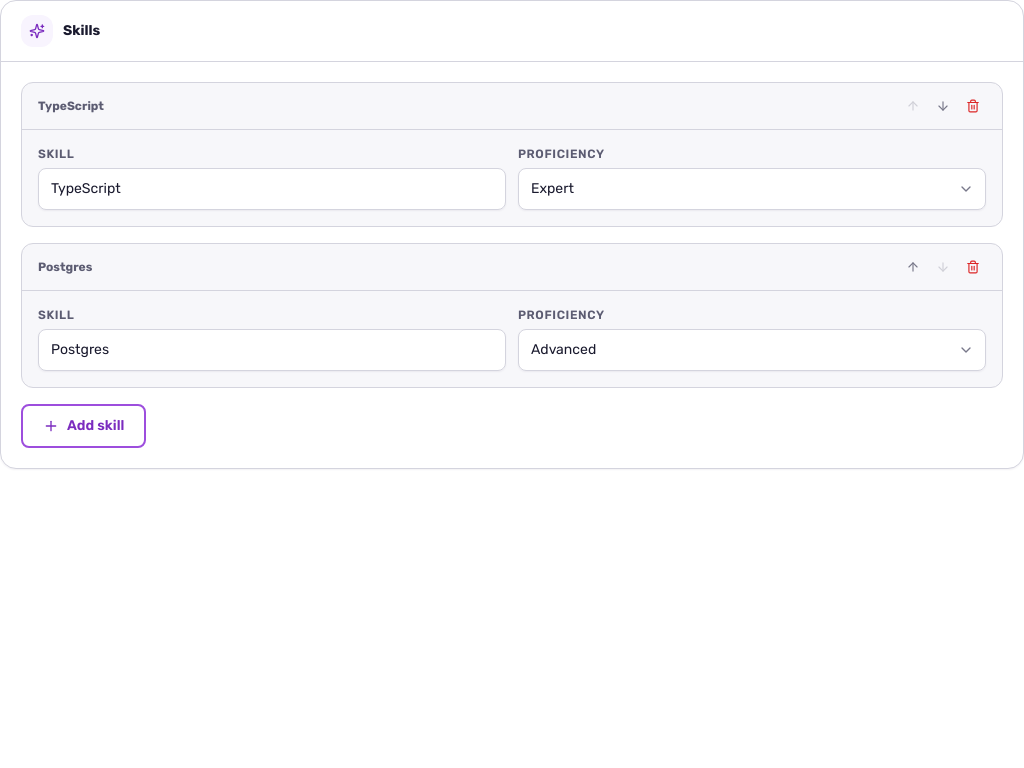
Scenario: SkillsEditor › adds a row
Click the button "Add skill".
click(84, 426)  # box [21, 404, 146, 448]
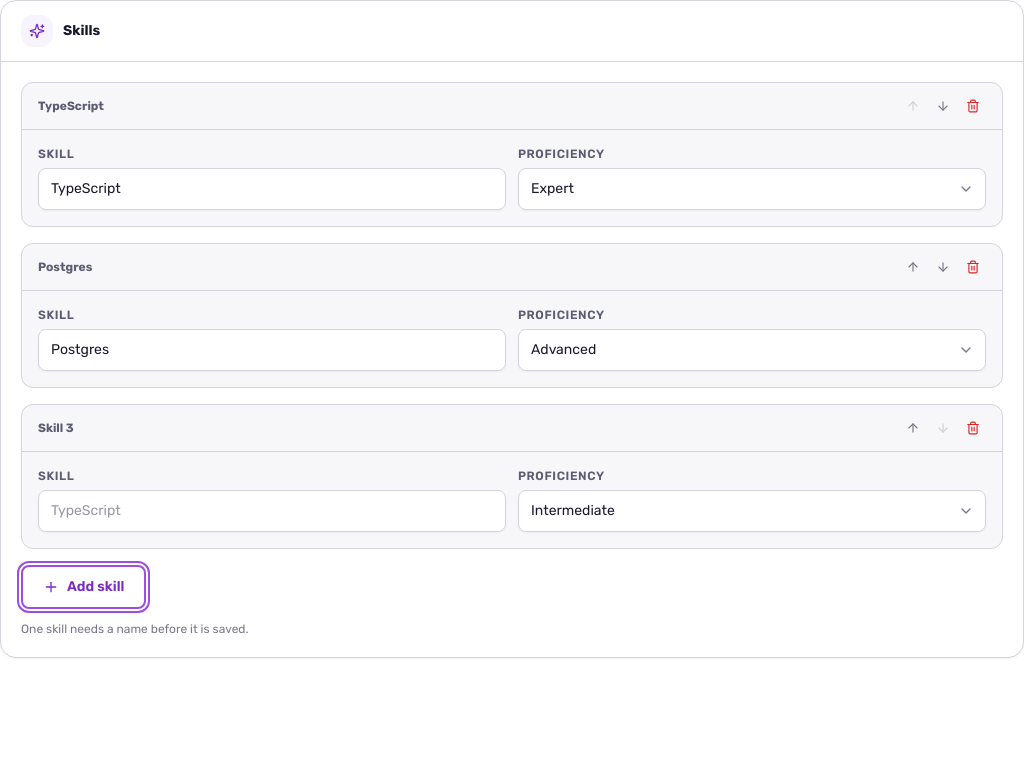
Check: the number of list items is 3, box [21, 82, 1003, 227]; [21, 243, 1003, 388]; [21, 404, 1003, 549]
